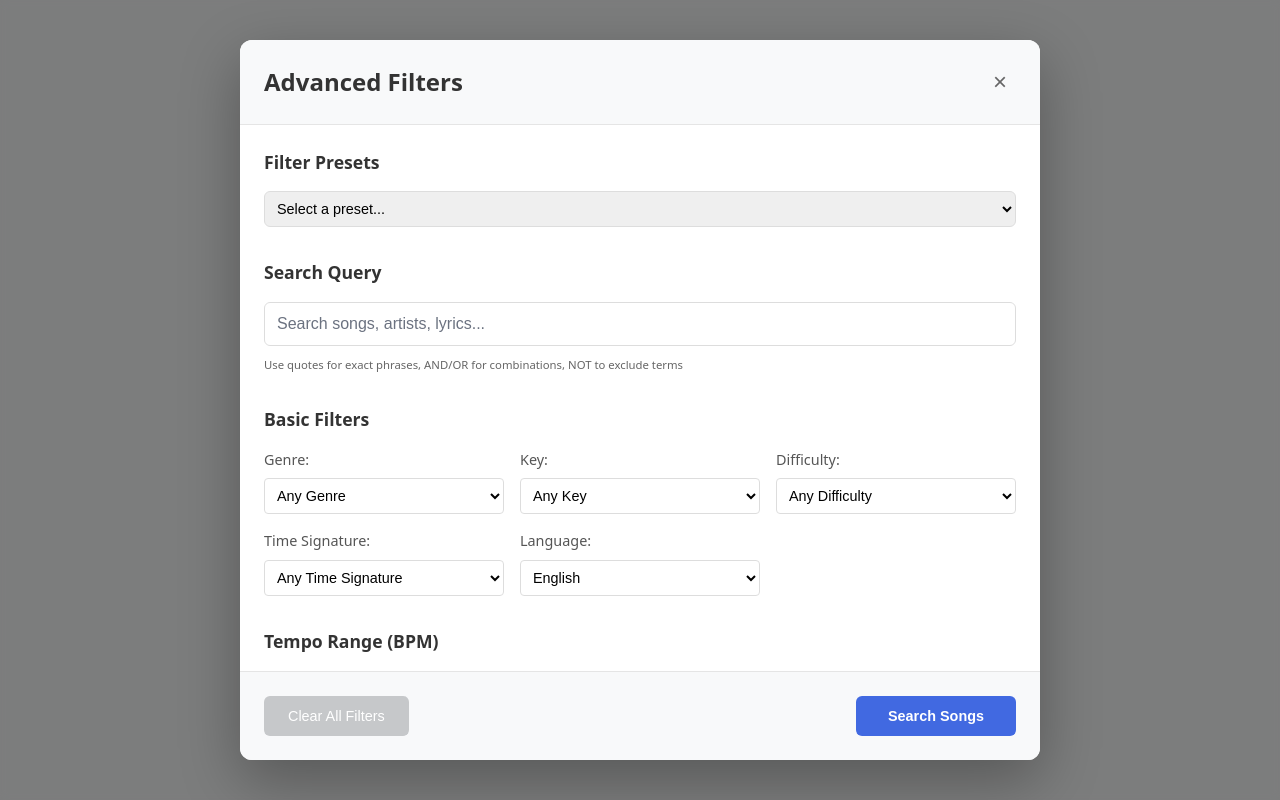
Test: AdvancedFilterPanel › Preset Creation Modal › should open preset modal when save button clicked
Set a filter to enable save button
Select "Rock" in the dropdown labelled "Genre:" at point(384, 496), box [264,478,504,514]
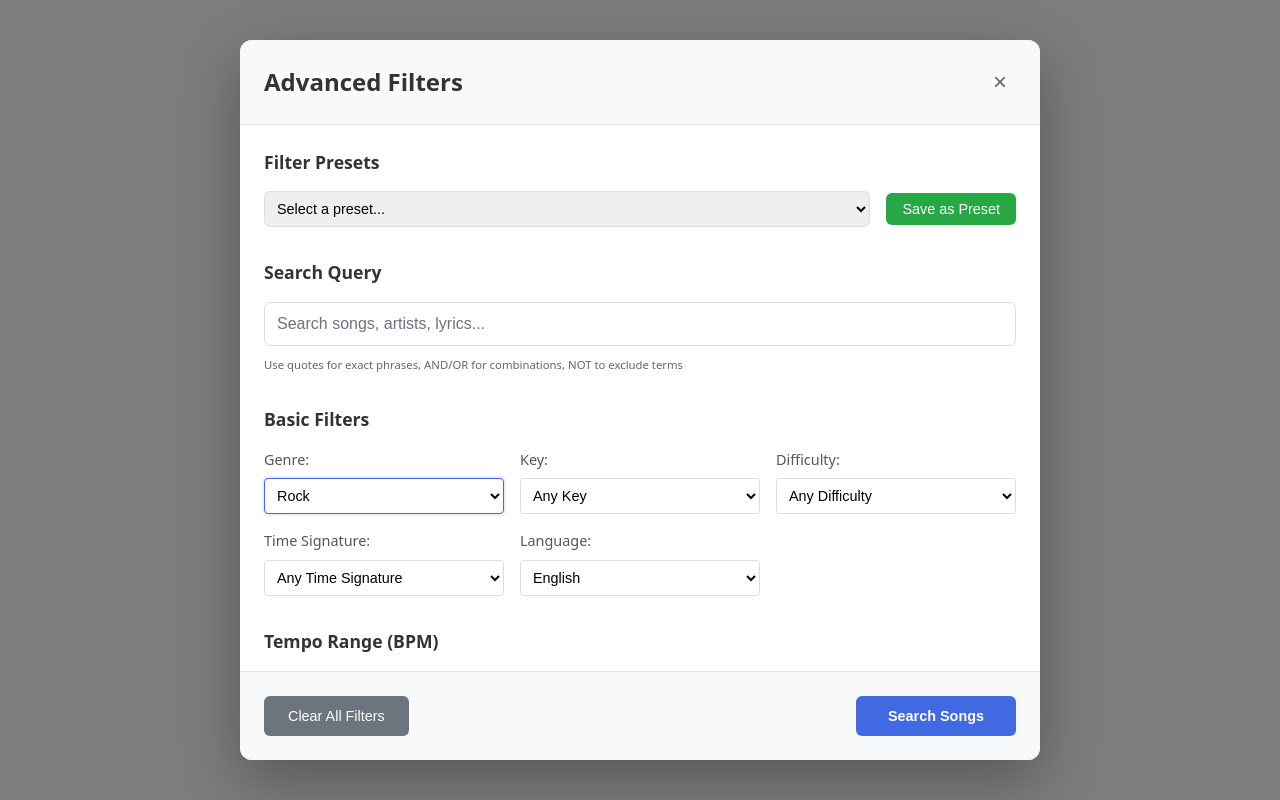
Expected: the button "Save as Preset" is shown
Click the button "Save as Preset".
click(951, 209)  # box [886,193,1016,225]
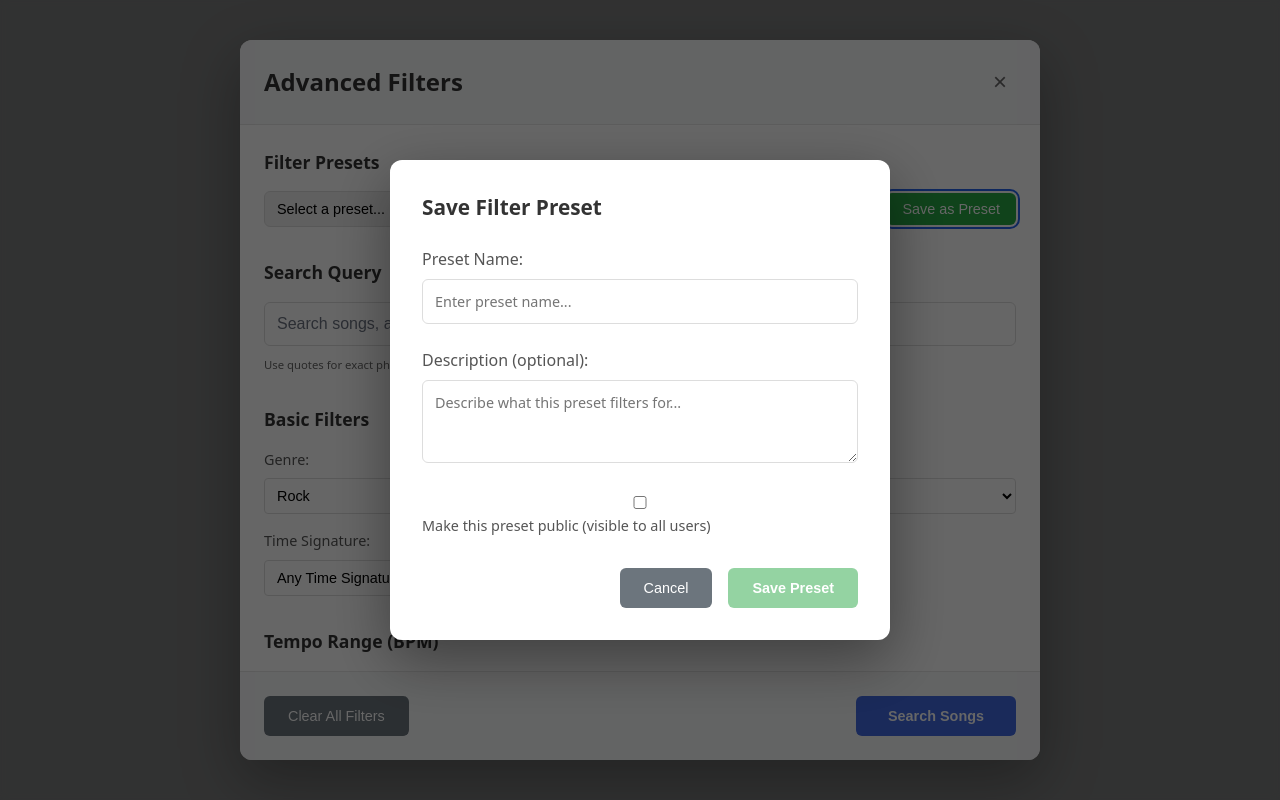
Expected: the heading "Save Filter Preset" is shown, [422,193,602,221]
Expected: the field labelled "Preset Name:" is shown, [422,279,858,324]
